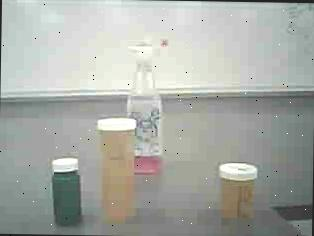Bottle A: (91, 116, 139, 220)
Bottle B: (217, 161, 264, 224)
Bottle C: (50, 155, 86, 226)
hazard: (124, 37, 176, 175)
